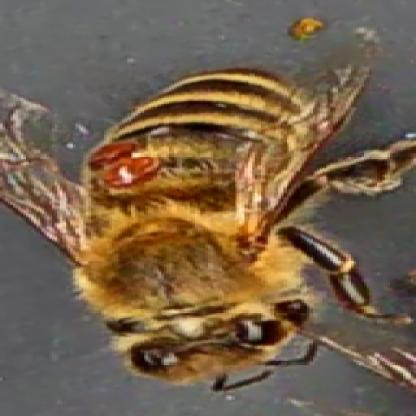bee: (69, 78, 343, 381)
vaoora: (107, 162, 153, 179), (90, 145, 130, 161)
